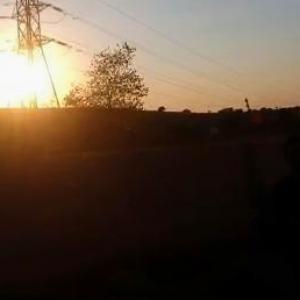follow: (265, 130, 299, 299)
